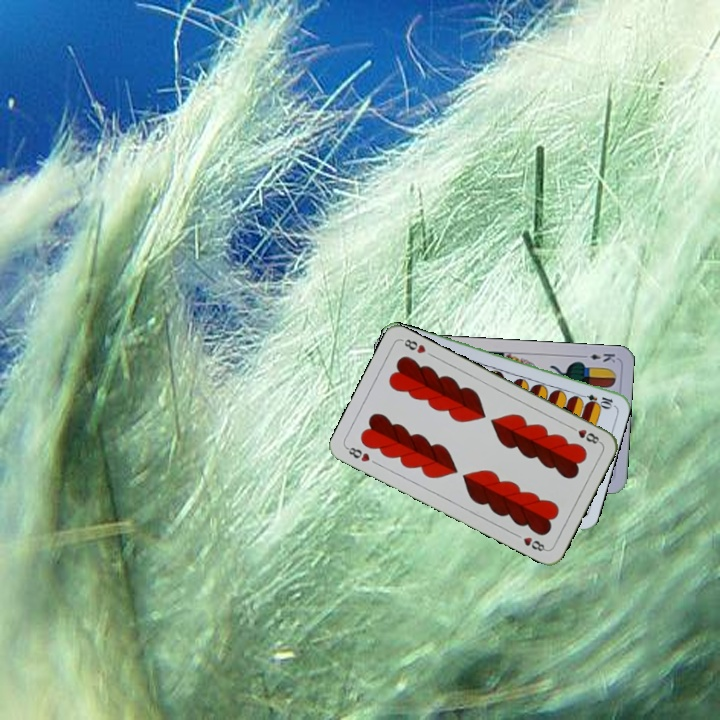E10: (575, 390, 615, 409)
EK: (577, 349, 618, 365)
H8: (565, 422, 603, 446), (343, 443, 373, 464)
